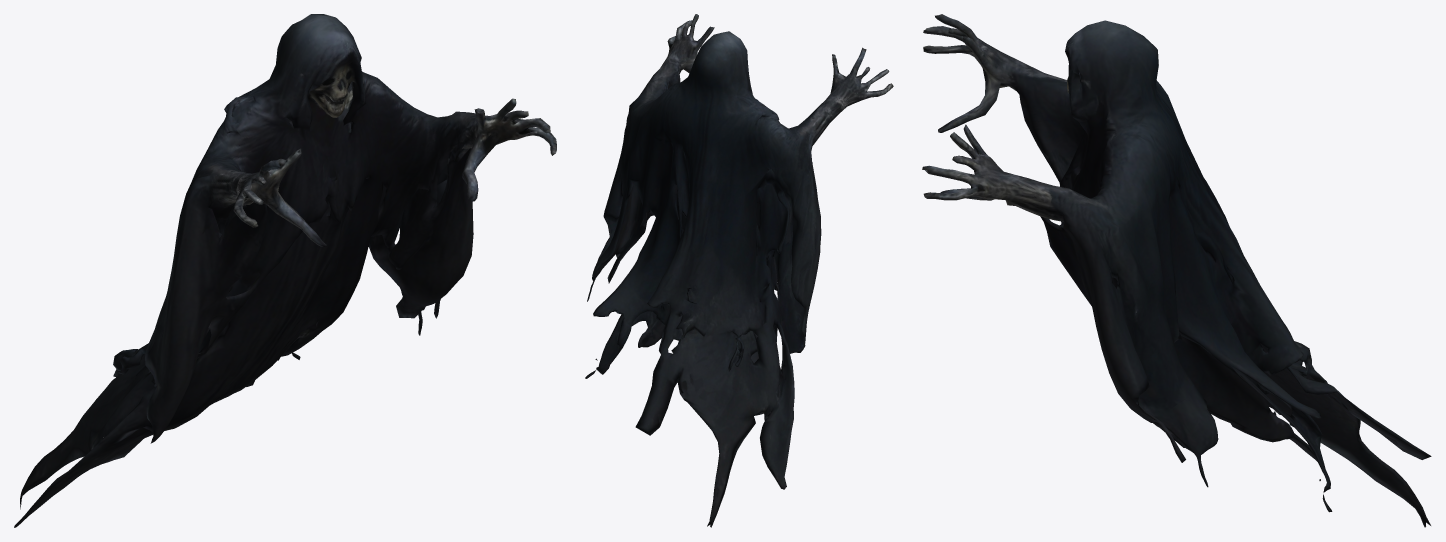
Rendered from Dementor.glb.
3 views of the same model, side by side, from view 1: azimuth 30°, elevation 25°; view 2: azimuth 150°, elevation 25°; view 3: azimuth 270°, elevation 25° (orthographic). The views are drawn at different scales.
Bounding box in the file's own units: 1.28 × 1.96 × 1.57.
Materials: 1 (1 with a texture image).
